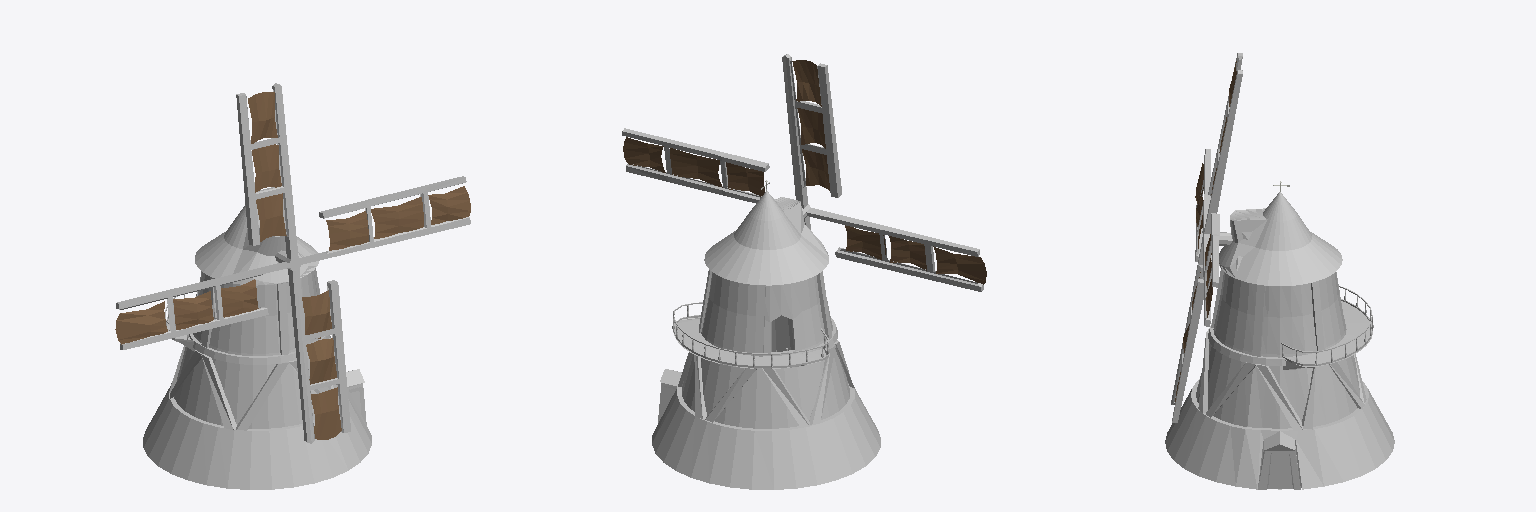
Rendered from windmill.obj.
3 renders of one model, left to right at view 1: azimuth 30°, elevation 25°; view 2: azimuth 150°, elevation 25°; view 3: azimuth 270°, elevation 25°, orthographic.
Visible parts, largest first — view 1: cloth_retopo, fan, tower_bottom, tower_mid, railing_column.017, lower_wood_beams, ring_beam, wood_beams_top, door; view 2: tower_mid, tower_bottom, fan, cloth_retopo, railing_column.017, lower_wood_beams, balcony_foor, wood_beams_top, railing_column, door; view 3: tower_mid, tower_bottom, railing_column.017, fan, lower_wood_beams, balcony_foor, wood_beams_top, door, cloth_retopo, ring_beam, entrance_door.
Boxes of the visible parts, <box> form: cloth_retopo: <box>115,92,470,439</box>; fan: <box>116,83,470,443</box>; tower_bottom: <box>143,388,371,489</box>; tower_mid: <box>174,271,330,428</box>; railing_column.017: <box>195,205,318,285</box>; lower_wood_beams: <box>169,336,336,430</box>; ring_beam: <box>189,334,329,364</box>; wood_beams_top: <box>201,268,319,354</box>; door: <box>346,369,366,424</box>; tower_mid: <box>682,272,849,428</box>; tower_bottom: <box>652,384,880,489</box>; fan: <box>622,54,983,291</box>; cloth_retopo: <box>623,60,986,284</box>; railing_column.017: <box>704,191,828,285</box>; lower_wood_beams: <box>678,340,854,427</box>; balcony_foor: <box>673,317,826,368</box>; wood_beams_top: <box>699,270,831,356</box>; railing_column: <box>673,302,828,367</box>; door: <box>658,369,681,422</box>; tower_mid: <box>1196,272,1359,428</box>; tower_bottom: <box>1165,379,1394,489</box>; railing_column.017: <box>1219,192,1342,285</box>; fan: <box>1171,53,1242,422</box>; lower_wood_beams: <box>1198,328,1366,430</box>; balcony_foor: <box>1283,301,1372,369</box>; wood_beams_top: <box>1211,269,1342,356</box>; door: <box>1258,431,1300,489</box>; cloth_retopo: <box>1175,61,1236,401</box>; ring_beam: <box>1208,322,1347,365</box>; entrance_door: <box>1268,453,1292,488</box>.
Size of the model in its own units: 12.79 by 12.67 by 7.09.